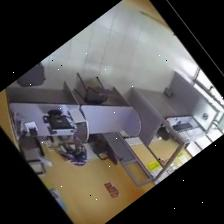person: (52, 136, 86, 165)
